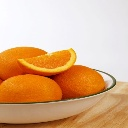orange: (1, 75, 64, 105), (14, 48, 78, 76), (65, 67, 105, 100)
